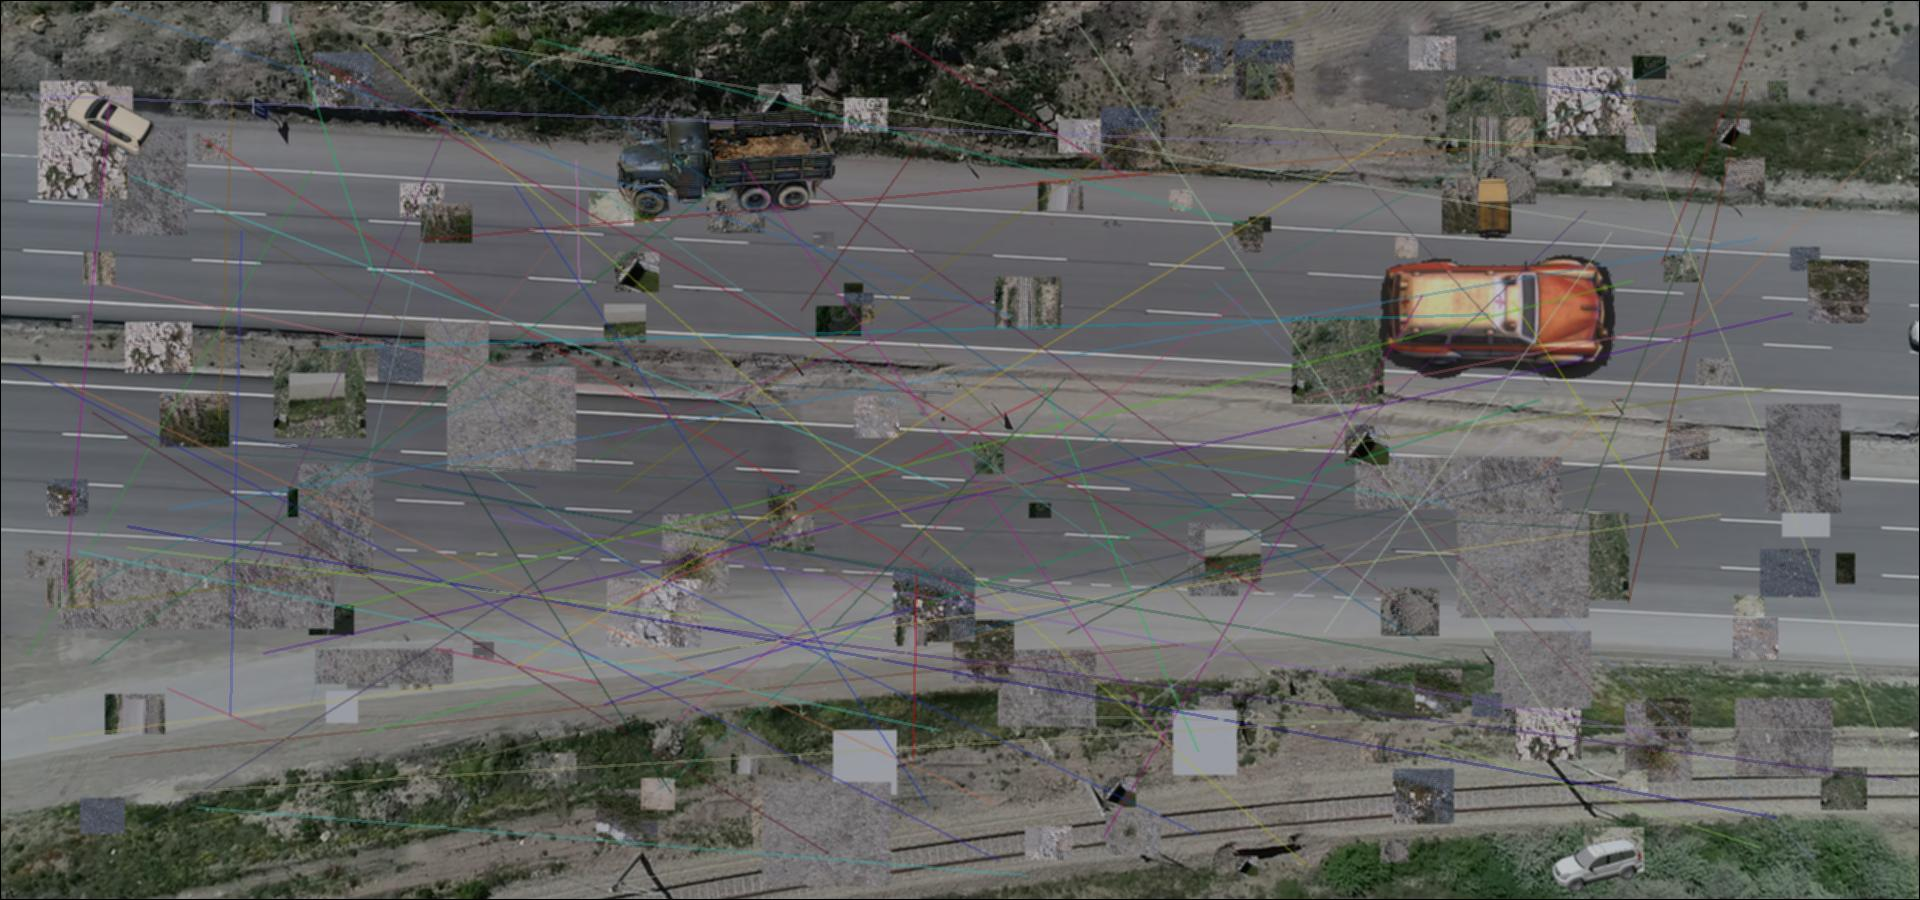arac: (1378, 253, 1627, 380), (617, 104, 838, 223), (62, 86, 156, 156), (1551, 838, 1643, 894), (1476, 176, 1512, 242)
